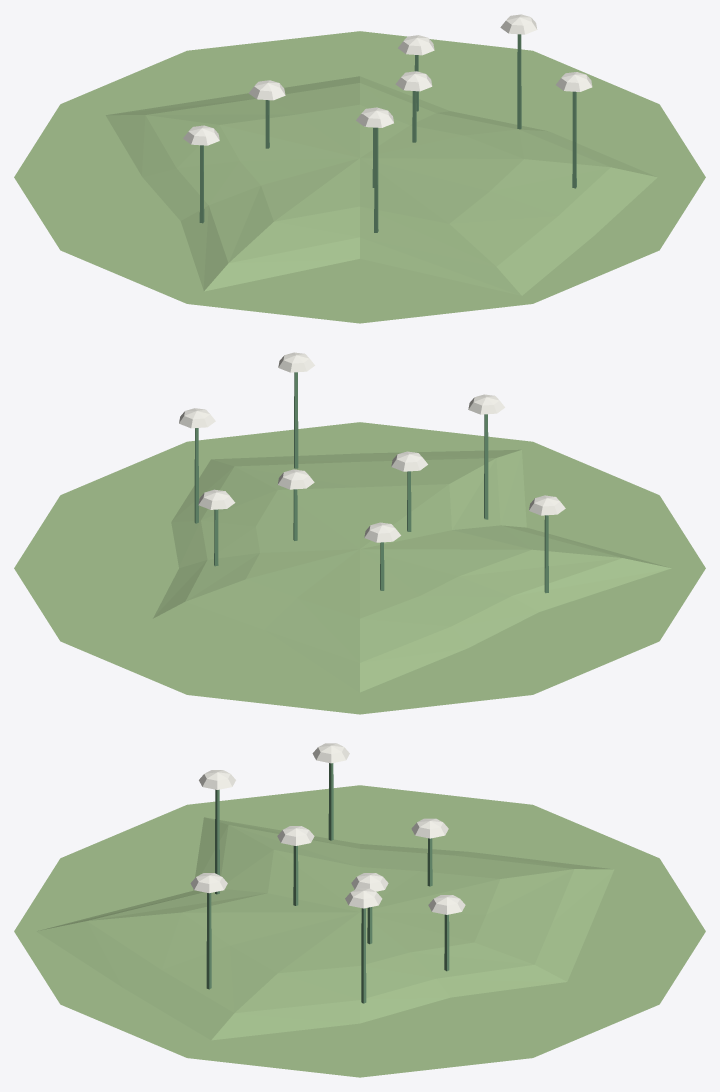
The model's file is flower_white_patch.glb.
3 renders of one model, top to bottom at view 1: azimuth 30°, elevation 25°; view 2: azimuth 150°, elevation 25°; view 3: azimuth 270°, elevation 25°, orthographic.
Visible parts, largest first — view 1: flower-white-patch; view 2: flower-white-patch; view 3: flower-white-patch.
Boxes of the visible parts, bbox=[...] form: flower-white-patch: bbox=[14, 14, 705, 323]; flower-white-patch: bbox=[14, 352, 705, 714]; flower-white-patch: bbox=[14, 743, 705, 1077].
Size of the model in its own units: 1.62 by 0.3423 by 1.62.
